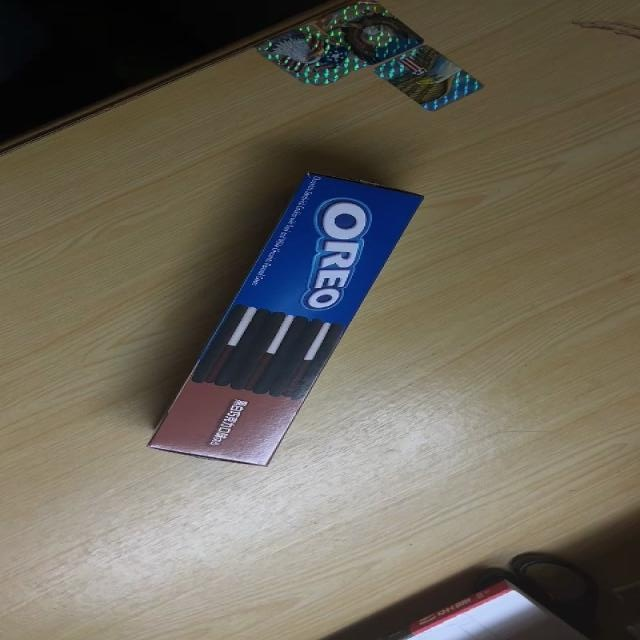Oreo: (146, 170, 428, 468)
